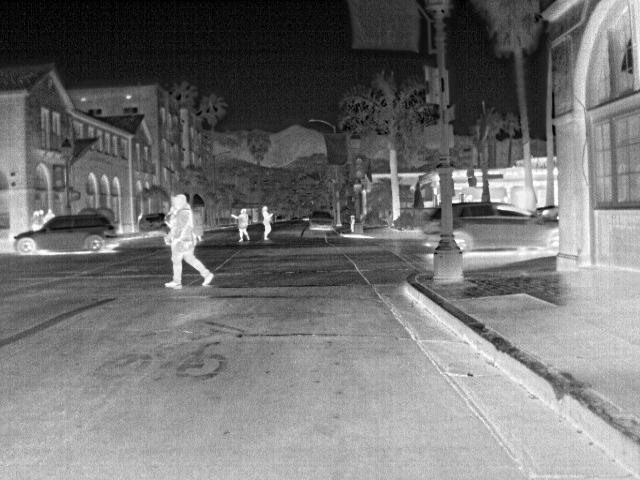car: (452, 203, 560, 256), (13, 213, 120, 255), (136, 210, 168, 238), (425, 206, 443, 253), (307, 209, 336, 232)
person: (162, 192, 211, 290), (229, 205, 251, 245), (260, 205, 273, 242), (28, 208, 41, 231), (36, 209, 46, 232), (44, 207, 57, 224)
